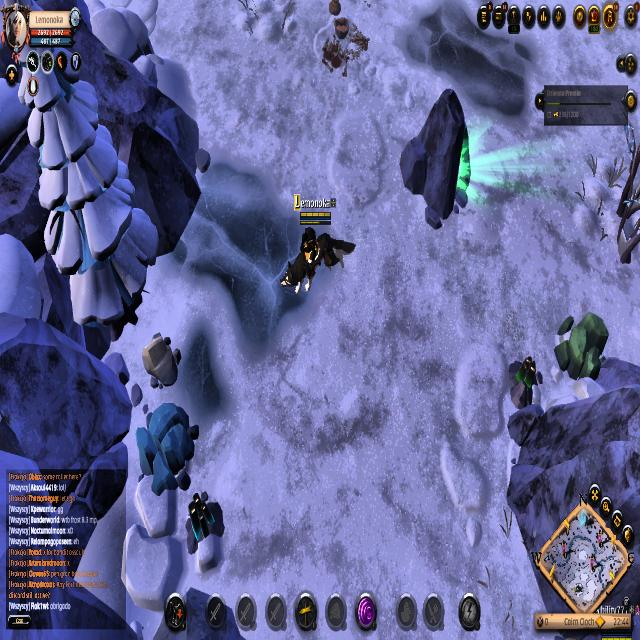ore tier 3: (505, 348, 542, 414)
ore tier 4: (184, 489, 226, 554)
rock tier 1: (140, 332, 182, 391)
rock tier 3: (556, 303, 606, 393)
rock tier 4: (134, 400, 198, 495)
